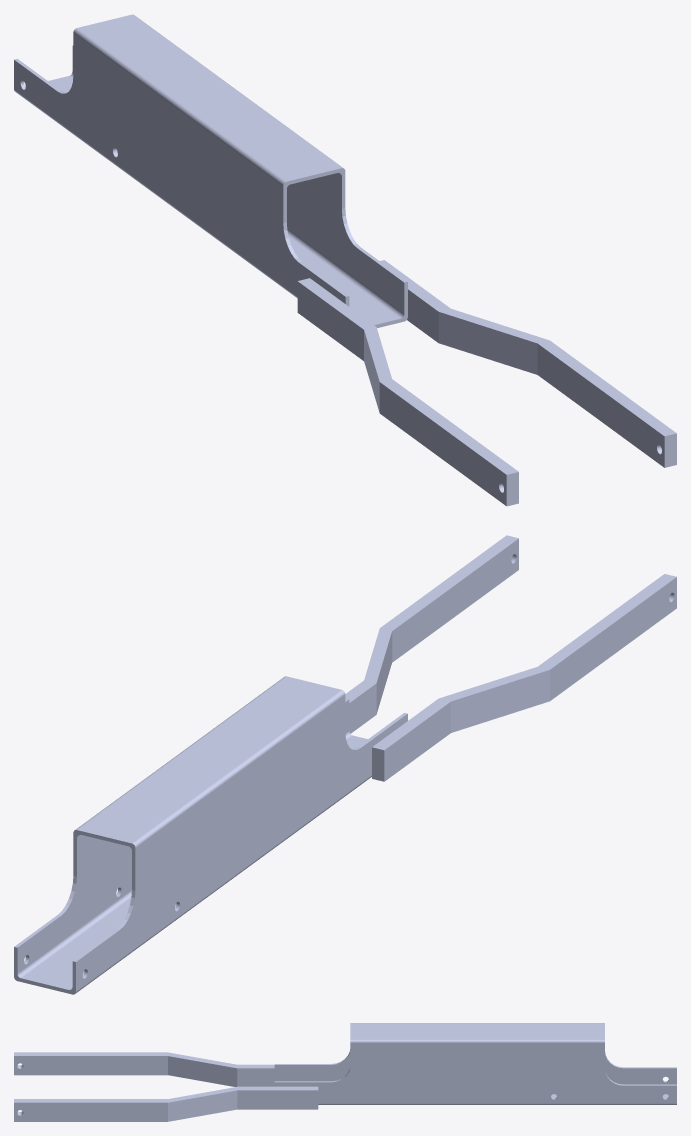
The model's file is outer_pitch_bottom.obj.
3 views of the same model, one above another, from view 1: azimuth 30°, elevation 25°; view 2: azimuth 150°, elevation 25°; view 3: azimuth 270°, elevation 25° (orthographic). The views are drawn at different scales.
Parts seen in each view (by area): view 1: ActorShape0_0-Mesh; view 2: ActorShape0_0-Mesh; view 3: ActorShape0_0-Mesh.
Boxes of the visible parts, box(x1,y1,x2,y2) form: ActorShape0_0-Mesh: box(14, 14, 676, 506); ActorShape0_0-Mesh: box(14, 535, 676, 994); ActorShape0_0-Mesh: box(14, 1023, 676, 1121).
Bounding box in the file's own units: 0.096 × 0.058 × 0.534.
